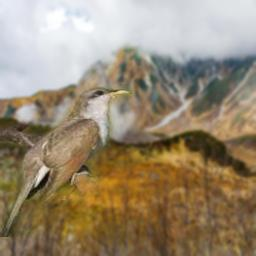Cuckoo: (0, 86, 132, 237)
